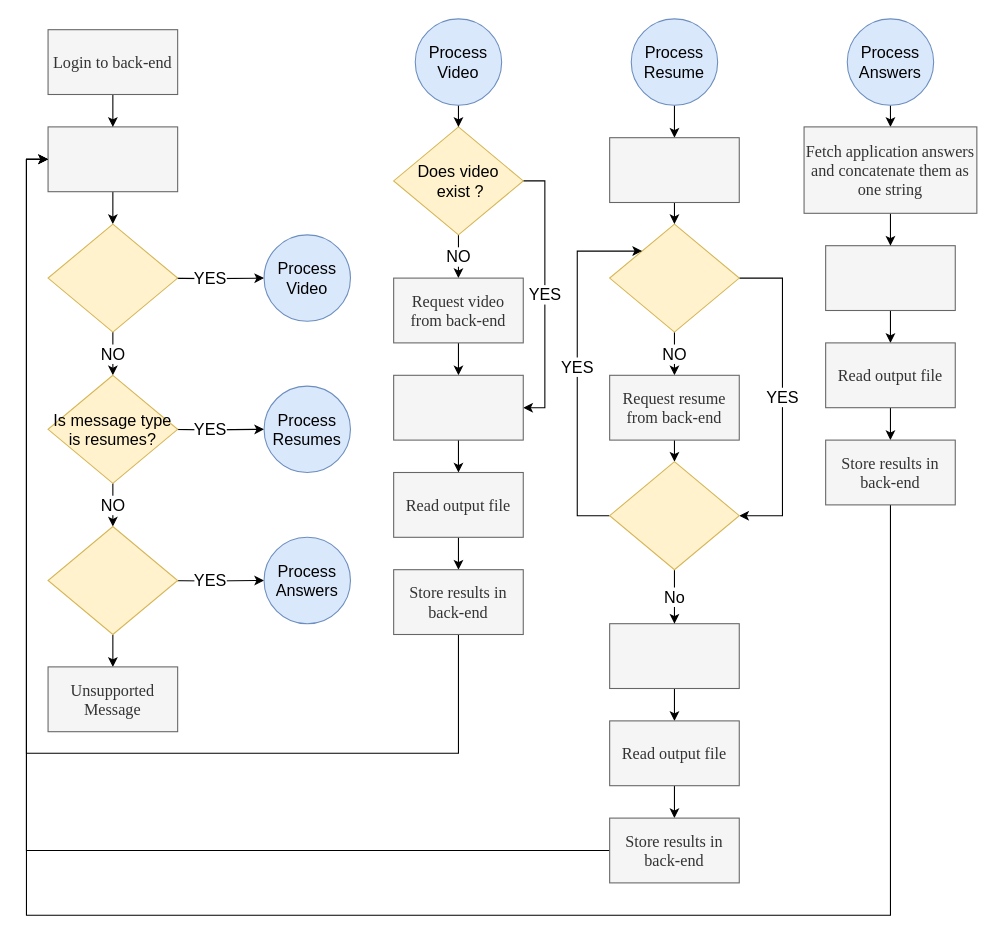
The diagram is 996 pixels wide and 943 high, and some of its shapes have lost their labels. The box of each missing label's shape, as (x1, y1, x2, y2) in pixels:
Are there more resumes ?: (609, 461, 739, 570)
Does current resume exist ?: (609, 223, 739, 332)
Fetch resume names for this job: (609, 137, 739, 202)
Is message type is answers?: (47, 525, 178, 634)
Is message type is video?: (47, 223, 178, 332)
Listen for messages on message queue: (47, 126, 178, 192)
Run python emotions model: (393, 374, 523, 440)
Run python personality model: (825, 245, 955, 310)
Run python resumes model: (609, 623, 739, 688)
